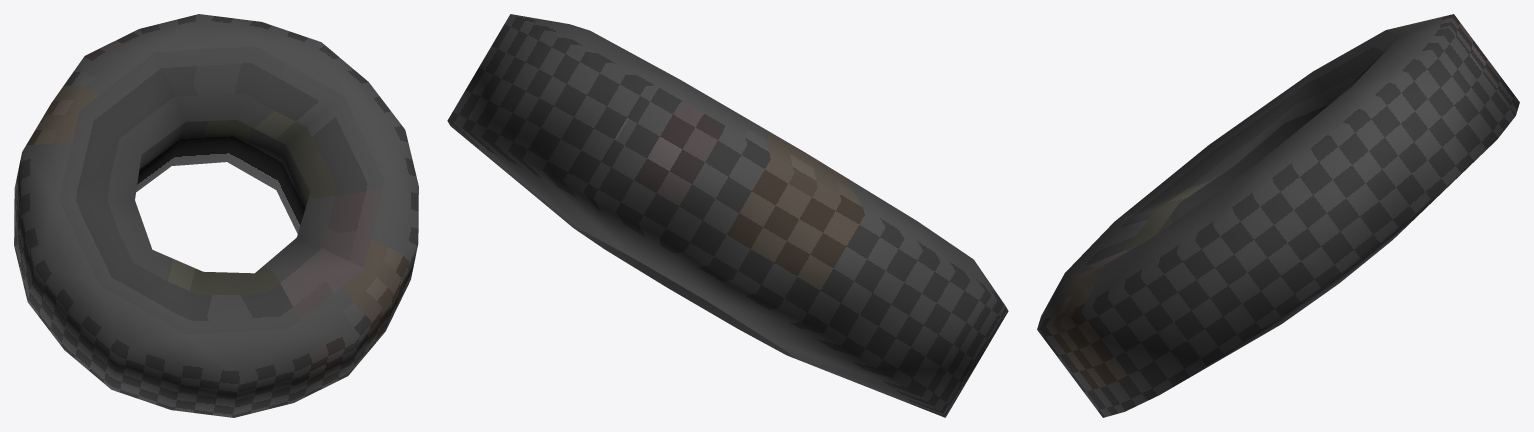
Rendered from fg_tire.dae.
3 views of the same model, side by side, from view 1: azimuth 30°, elevation 25°; view 2: azimuth 150°, elevation 25°; view 3: azimuth 270°, elevation 25° (orthographic). The views are drawn at different scales.
Parts seen in each view (by area): view 1: fg_tire; view 2: fg_tire; view 3: fg_tire.
Boxes of the visible parts, x1,y1,x2,y2 form: fg_tire: (14, 14, 418, 417); fg_tire: (447, 14, 1008, 417); fg_tire: (1037, 14, 1519, 417).
Bounding box in the file's own units: 24.03 × 18.94 × 21.69.
Materials: 1 (1 with a texture image).
